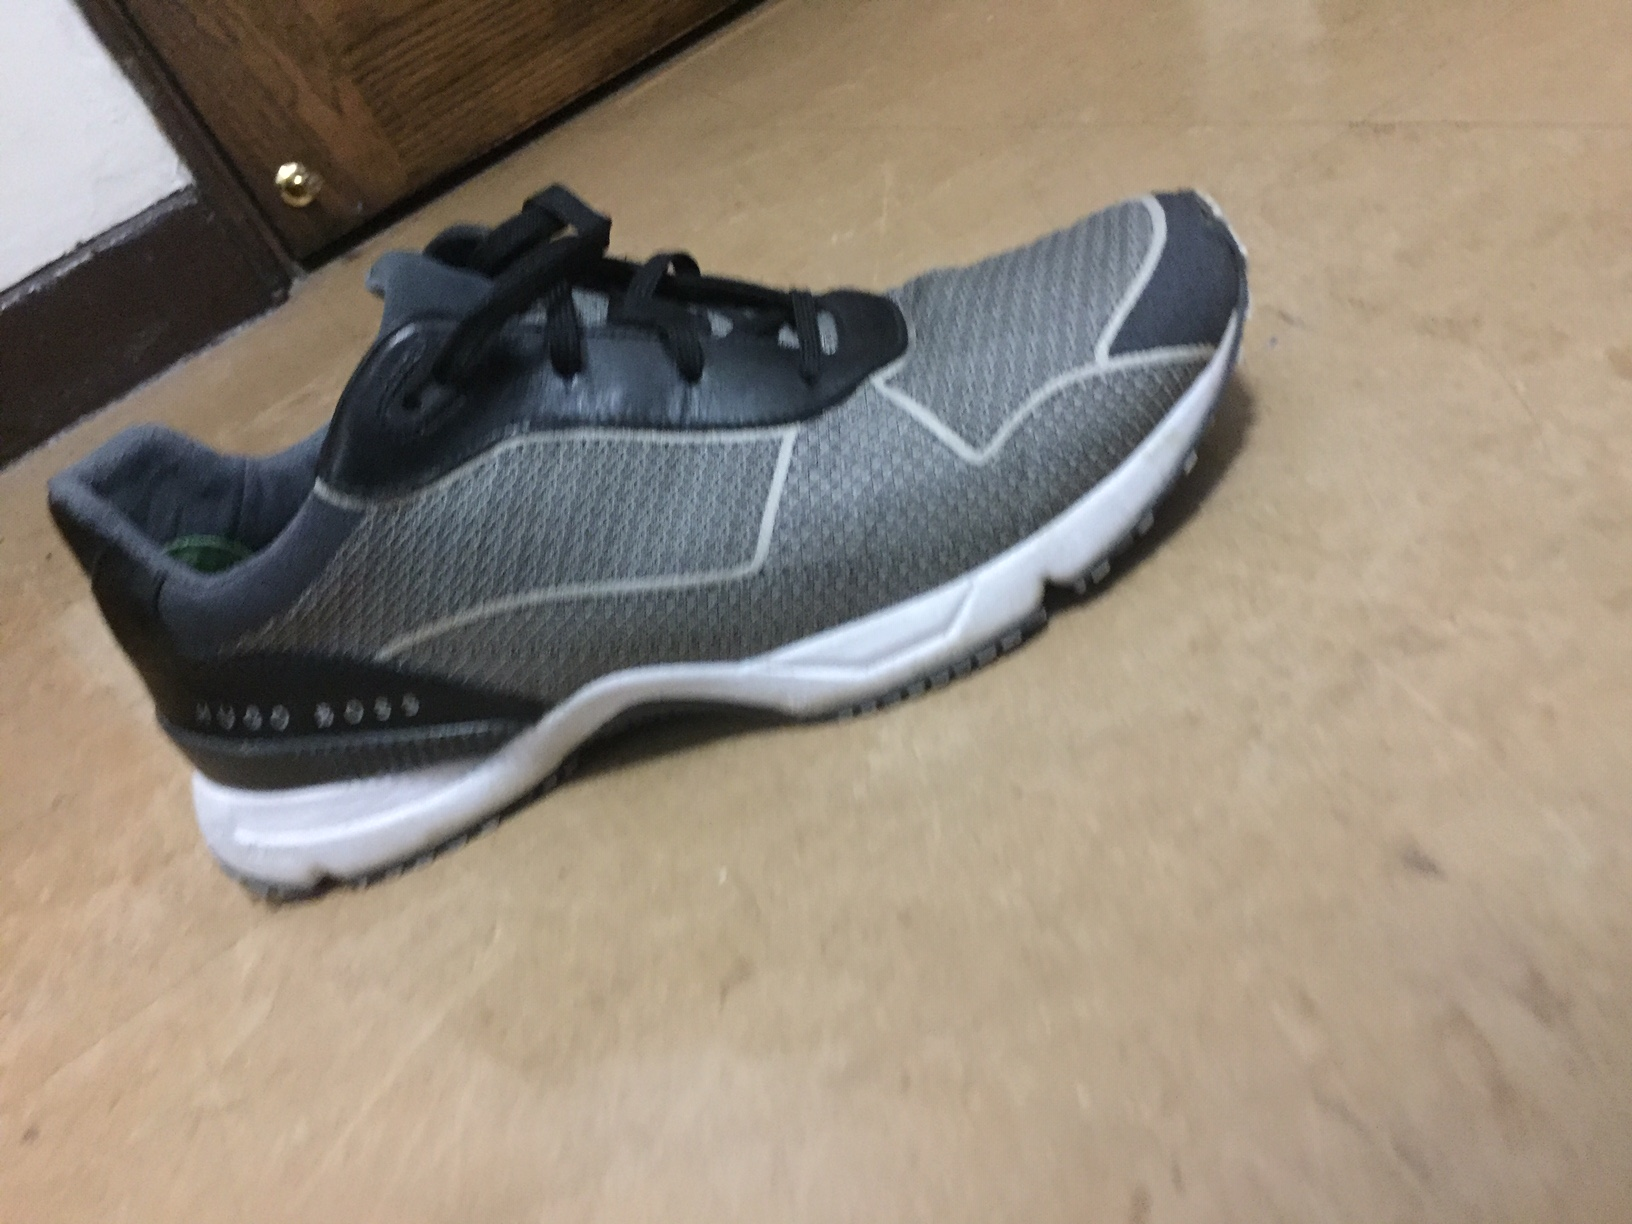car: (40, 161, 1246, 919)
